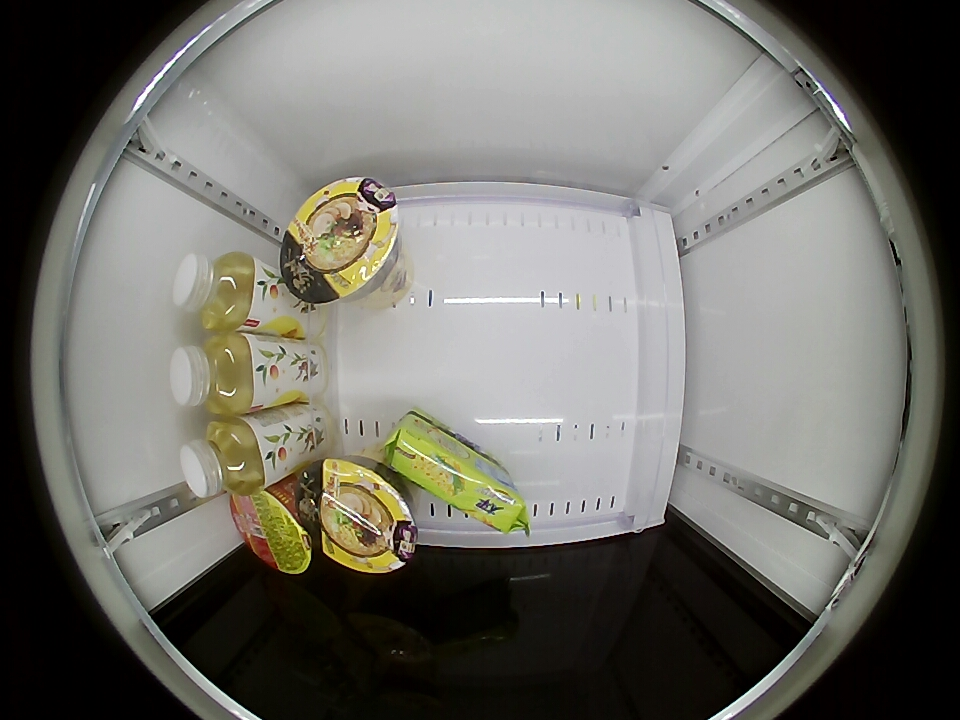chapai2: (170, 332, 256, 415), (181, 418, 265, 498), (173, 251, 257, 331)
heweidao3: (229, 482, 316, 575)
taipingshuda: (386, 412, 525, 535)
tangdaren2: (280, 177, 399, 305), (310, 457, 417, 574)
